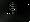person: (9, 3, 13, 15), (14, 3, 18, 15)
